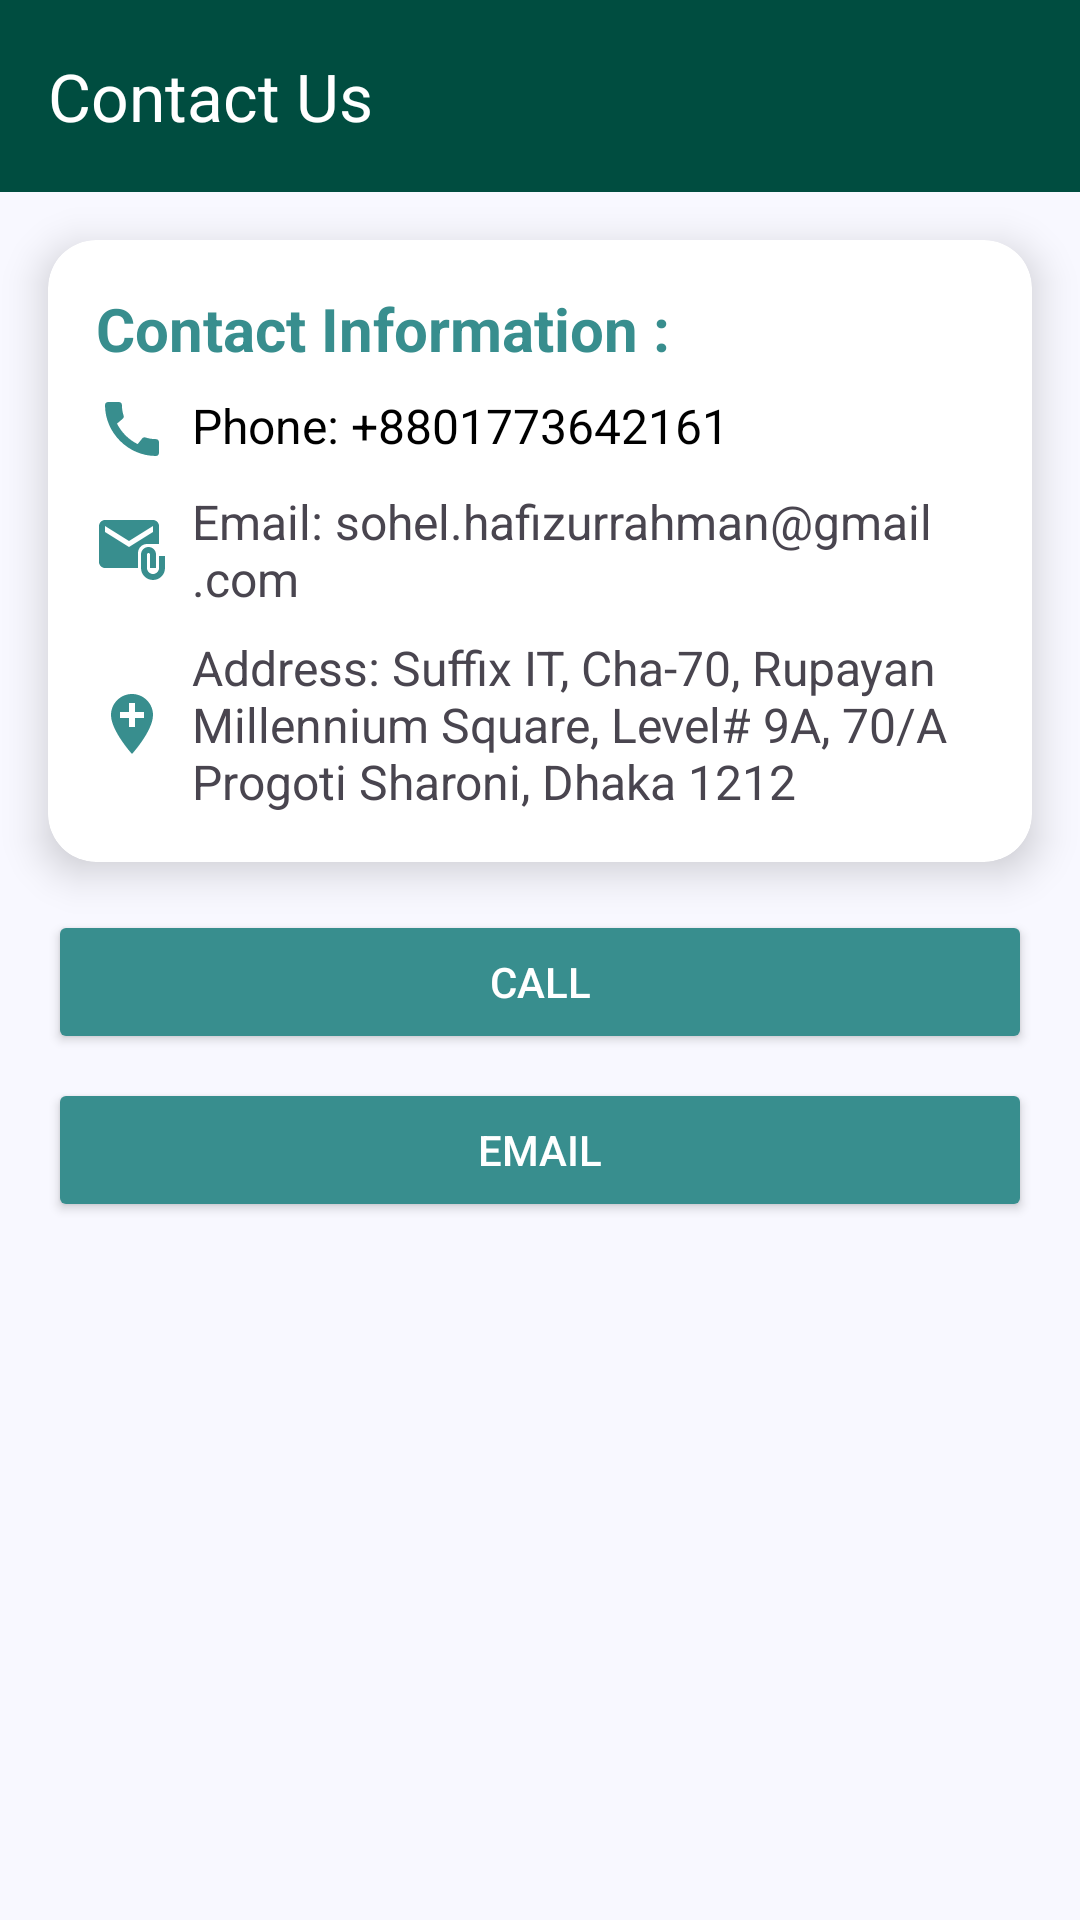

Locate icon controls on the screen. Image size 1080x1920, boxes as (x1, y1, x2, y2).
location: (111, 694, 153, 754)
